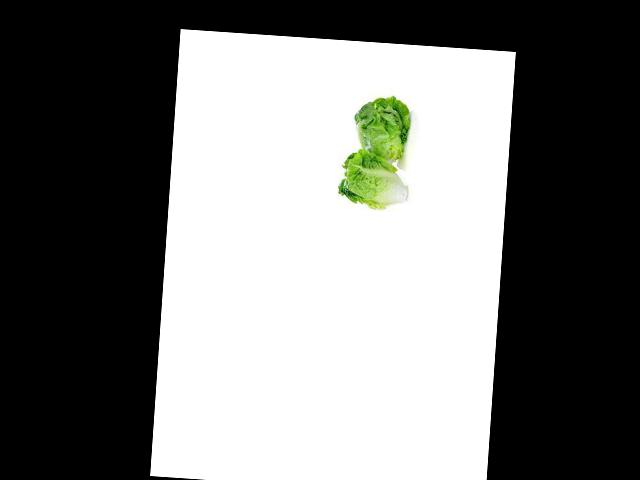lettuce: (339, 92, 419, 214)
